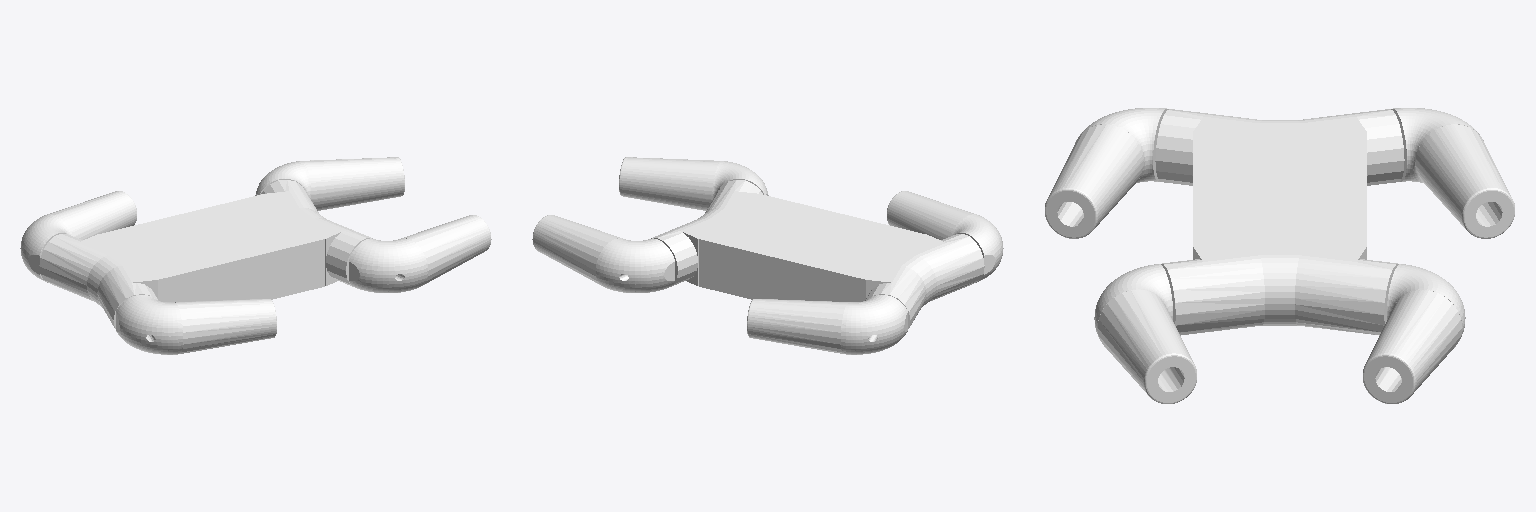
URDF robot description (16_degree):
<?xml version="1.0" encoding="utf-8"?>
<!-- This URDF was automatically created by SolidWorks to URDF Exporter! Originally created by [author] ([email redacted]) 
     Commit Version: 1.5.1-0-g916b5db  Build Version: 1.5.7152.31018
     For more information, please see http://wiki.ros.org/sw_urdf_exporter -->
<robot
  name="16_degree">
  <link
    name="base_link">
    <inertial>
      <origin
        xyz="2.0817E-17 3.7024E-08 -5.3852E-10"
        rpy="0 0 0" />
      <mass
        value="2.942" />
      <inertia
        ixx="0.0099606"
        ixy="1.2793E-10"
        ixz="-1.5392E-10"
        iyy="0.0437392"
        iyz="5.1564E-18"
        izz="0.0512988" />
    </inertial>
    <visual>
      <origin
        xyz="0 0 0"
        rpy="0 0 0" />
      <geometry>
        <mesh
          filename="package://16_degree/meshes/base_link.STL" />
      </geometry>
      <material
        name="">
        <color
          rgba="1 1 1 1" />
      </material>
    </visual>
    <collision>
      <origin
        xyz="0 0 0"
        rpy="0 0 0" />
      <geometry>
        <mesh
          filename="package://16_degree/meshes/base_link.STL" />
      </geometry>
    </collision>
  </link>
  <link
    name="left_front_link">
    <inertial>
      <origin
        xyz="-1.7488E-08 0.05683 -0.036011"
        rpy="0 0 0" />
      <mass
        value="0.092" />
      <inertia
        ixx="0.0002604"
        ixy="7.4034E-10"
        ixz="7.5294E-10"
        iyy="0.0000526"
        iyz="2.27E-05"
        izz="0.0002575" />
    </inertial>
    <visual>
      <origin
        xyz="0 0 0"
        rpy="0 0 0" />
      <geometry>
        <mesh
          filename="package://16_degree/meshes/left_front_link.STL" />
      </geometry>
      <material
        name="">
        <color
          rgba="1 1 1 1" />
      </material>
    </visual>
    <collision>
      <origin
        xyz="0 0 0"
        rpy="0 0 0" />
      <geometry>
        <mesh
          filename="package://16_degree/meshes/left_front_link.STL" />
      </geometry>
    </collision>
  </link>
  <joint
    name="left_front_leg"
    type="continuous">
    <origin
      xyz="0.15839 0.09901 0"
      rpy="1.85 1.5708 0" />
    <parent
      link="base_link" />
    <child
      link="left_front_link" />
    <axis
      xyz="0 0 -1" />
    <limit
      effort="5"
      velocity="487" />
  </joint>
  <link
    name="right_front_link">
    <inertial>
      <origin
        xyz="1.7488E-08 0.05683 0.036011"
        rpy="0 0 0" />
      <mass
        value="0.092" />
      <inertia
        ixx="0.0002604"
        ixy="-7.4034E-10"
        ixz="7.5294E-10"
        iyy="0.0000526"
        iyz="-2.27E-05"
        izz="0.0002575" />
    </inertial>
    <visual>
      <origin
        xyz="0 0 0"
        rpy="0 0 0" />
      <geometry>
        <mesh
          filename="package://16_degree/meshes/right_front_link.STL" />
      </geometry>
      <material
        name="">
        <color
          rgba="1 1 1 1" />
      </material>
    </visual>
    <collision>
      <origin
        xyz="0 0 0"
        rpy="0 0 0" />
      <geometry>
        <mesh
          filename="package://16_degree/meshes/right_front_link.STL" />
      </geometry>
    </collision>
  </link>
  <joint
    name="right_front_leg"
    type="continuous">
    <origin
      xyz="0.15839 -0.09901 0"
      rpy="1.2915 1.5708 0" />
    <parent
      link="base_link" />
    <child
      link="right_front_link" />
    <axis
      xyz="0 0 1" />
    <limit
      effort="5"
      velocity="487" />
  </joint>
  <link
    name="right_back_link">
    <inertial>
      <origin
        xyz="8.6114E-08 0.056834 0.03601"
        rpy="0 0 0" />
      <mass
        value="0.092" />
      <inertia
        ixx="0.0002604"
        ixy="-5.4276E-10"
        ixz="2.4861E-10"
        iyy="0.0000526"
        iyz="-2.27E-05"
        izz="0.0002575" />
    </inertial>
    <visual>
      <origin
        xyz="0 0 0"
        rpy="0 0 0" />
      <geometry>
        <mesh
          filename="package://16_degree/meshes/right_back_link.STL" />
      </geometry>
      <material
        name="">
        <color
          rgba="1 1 1 1" />
      </material>
    </visual>
    <collision>
      <origin
        xyz="0 0 0"
        rpy="0 0 0" />
      <geometry>
        <mesh
          filename="package://16_degree/meshes/right_back_link.STL" />
      </geometry>
    </collision>
  </link>
  <joint
    name="right_back_leg"
    type="continuous">
    <origin
      xyz="-0.15839 -0.09901 0"
      rpy="1.85 1.5708 0" />
    <parent
      link="base_link" />
    <child
      link="right_back_link" />
    <axis
      xyz="0 0 1" />
    <limit
      effort="5"
      velocity="487" />
  </joint>
  <link
    name="left_back_link">
    <inertial>
      <origin
        xyz="-8.6114E-08 0.056834 -0.03601"
        rpy="0 0 0" />
      <mass
        value="0.092" />
      <inertia
        ixx="0.0002604"
        ixy="5.4276E-10"
        ixz="2.4861E-10"
        iyy="0.0000526"
        iyz="2.27E-05"
        izz="0.0002575" />
    </inertial>
    <visual>
      <origin
        xyz="0 0 0"
        rpy="0 0 0" />
      <geometry>
        <mesh
          filename="package://16_degree/meshes/left_back_link.STL" />
      </geometry>
      <material
        name="">
        <color
          rgba="1 1 1 1" />
      </material>
    </visual>
    <collision>
      <origin
        xyz="0 0 0"
        rpy="0 0 0" />
      <geometry>
        <mesh
          filename="package://16_degree/meshes/left_back_link.STL" />
      </geometry>
    </collision>
  </link>
  <joint
    name="left_back_leg"
    type="continuous">
    <origin
      xyz="-0.15839 0.09901 0"
      rpy="1.2915 1.5708 0" />
    <parent
      link="base_link" />
    <child
      link="left_back_link" />
    <axis
      xyz="0 0 -1" />
    <limit
      effort="5"
      velocity="487" />
  </joint>
</robot>

--- What the picture shows (computed from the rendered views, not written in the file) ---
3 views of the same robot in one strip: view 1: azimuth 30°, elevation 25°; view 2: azimuth 150°, elevation 25°; view 3: azimuth 270°, elevation 25° (orthographic).
Model 16_degree with 5 links and 4 joints (4 continuous), rooted at base_link, posed all joints at 0.
Links seen in each view (by area): view 1: base_link, right_back_link, right_front_link, left_front_link, left_back_link; view 2: base_link, left_back_link, left_front_link, right_front_link, right_back_link; view 3: base_link, right_back_link, left_back_link, left_front_link, right_front_link.
Boxes of the visible links, x1=… form: base_link: x1=39, y1=180, x2=372, y2=328; right_back_link: x1=116, y1=295, x2=276, y2=354; right_front_link: x1=349, y1=215, x2=491, y2=292; left_front_link: x1=255, y1=157, x2=404, y2=210; left_back_link: x1=20, y1=191, x2=136, y2=282; base_link: x1=651, y1=180, x2=984, y2=328; left_back_link: x1=747, y1=295, x2=907, y2=354; left_front_link: x1=532, y1=215, x2=674, y2=292; right_front_link: x1=619, y1=157, x2=768, y2=210; right_back_link: x1=887, y1=191, x2=1003, y2=282; base_link: x1=1155, y1=109, x2=1404, y2=335; right_back_link: x1=1045, y1=108, x2=1168, y2=238; left_back_link: x1=1391, y1=108, x2=1514, y2=238; left_front_link: x1=1363, y1=264, x2=1465, y2=403; right_front_link: x1=1094, y1=264, x2=1196, y2=403.
Bounding box of the posed robot: 0.5199 × 0.4078 × 0.064 m (x, y, z).
Meshes: 5 distinct files referenced, 5 mesh visuals loaded (5 binary STL).